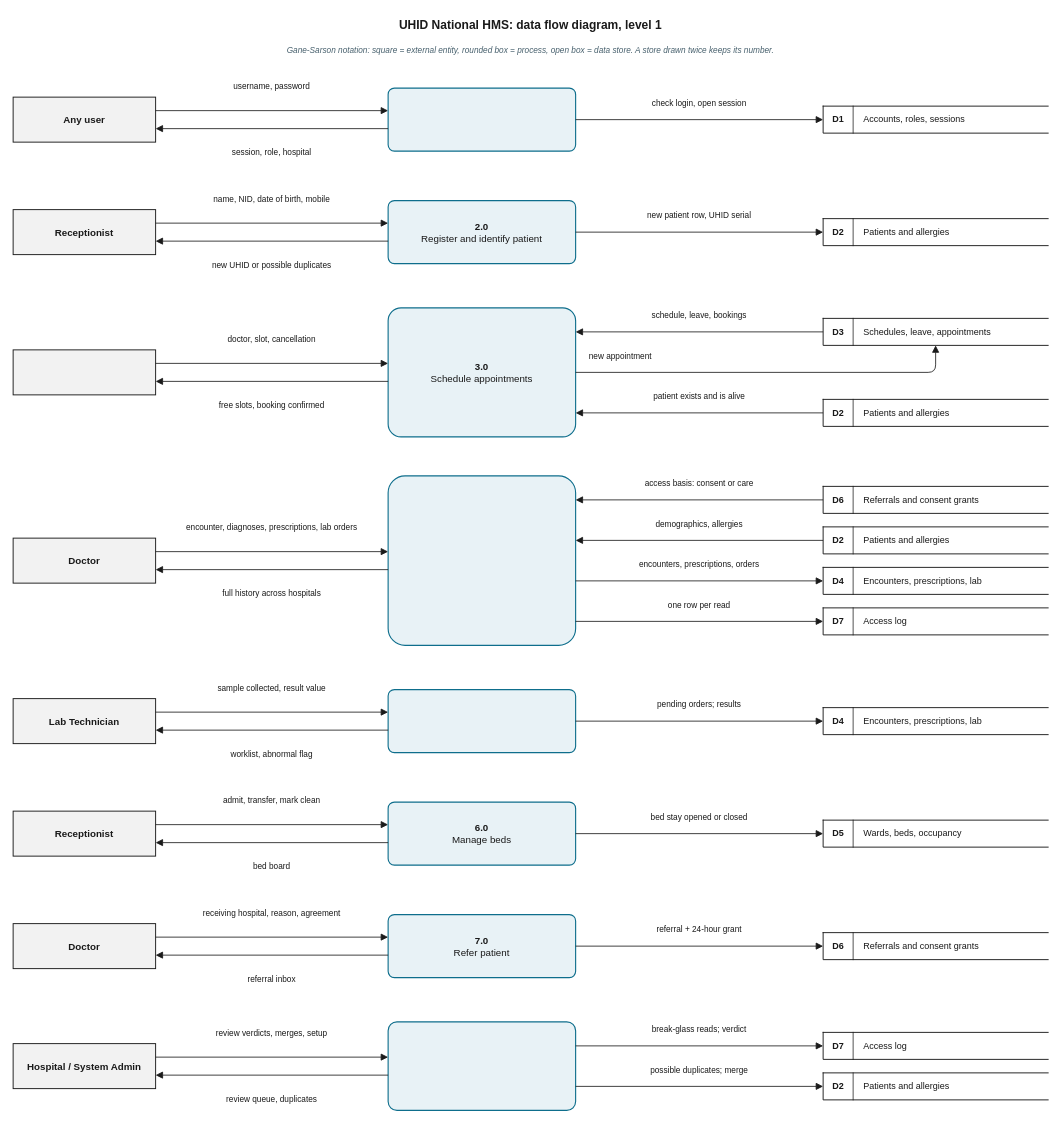
Image size: 1062x1127. Some labels were removed from this diagram. Each missing label, with the centre of its shape:
"1.0 Authenticate user" belongs at pixel 481 119.
"4.0 Open record and record care" belongs at pixel 481 560.
"5.0 Process lab tests" belongs at pixel 481 721.
"8.0 Audit and administer" belongs at pixel 481 1066.
"Patient" belongs at pixel 84 372.
